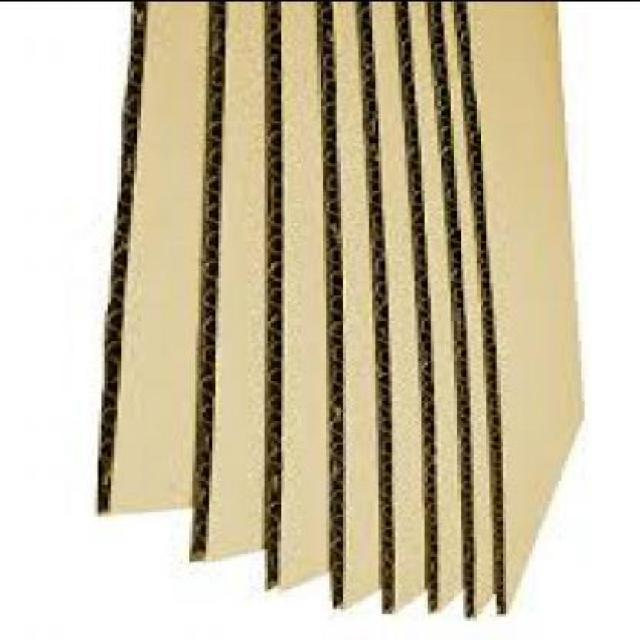box: (220, 6, 588, 623), (92, 1, 205, 514)
